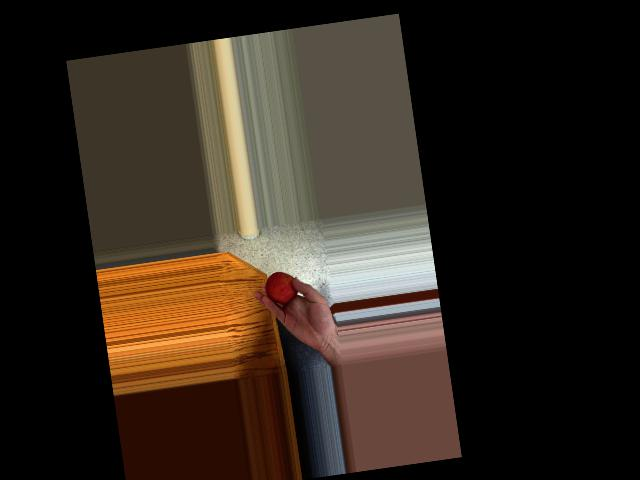apple: (263, 269, 300, 308)
